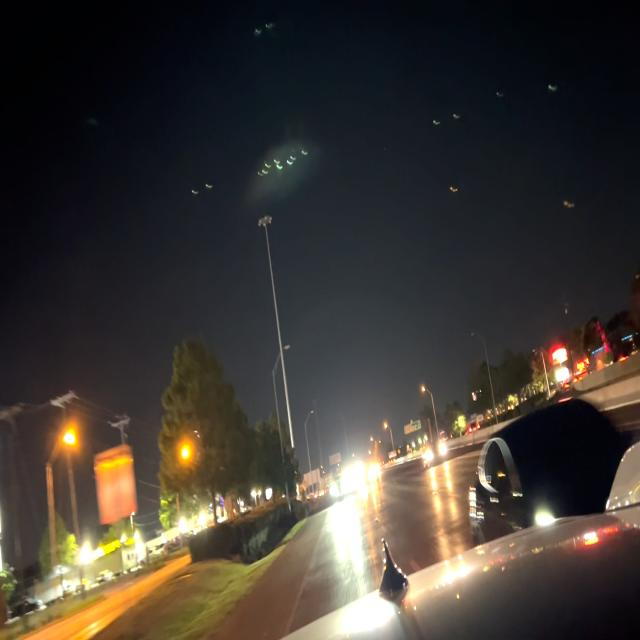back-of-sign: (93, 445, 136, 528)
